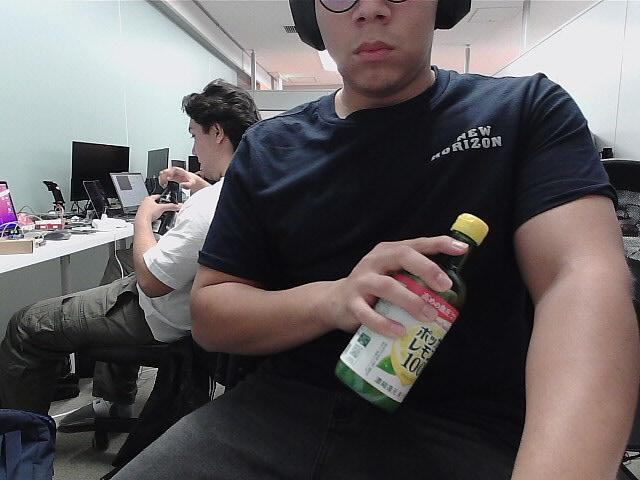Lemon_sapporo: (326, 207, 500, 418)
